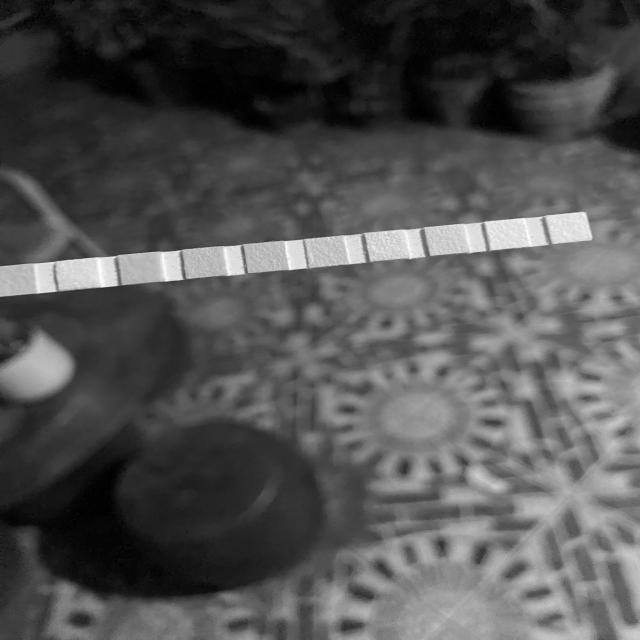Bilirubin: (59, 261, 98, 288)
Blood: (247, 245, 286, 270)
Glucose: (2, 267, 34, 294)
Ketone: (121, 256, 161, 282)
Leukocytes: (552, 216, 586, 240)
Nitrite: (490, 222, 524, 248)
Protein: (371, 232, 405, 258)
SpGravity: (186, 250, 224, 276)
Urobilinogen: (429, 227, 464, 253)
background: (0, 0, 640, 640)
pH: (308, 238, 344, 265)
strip: (1, 211, 594, 299)
